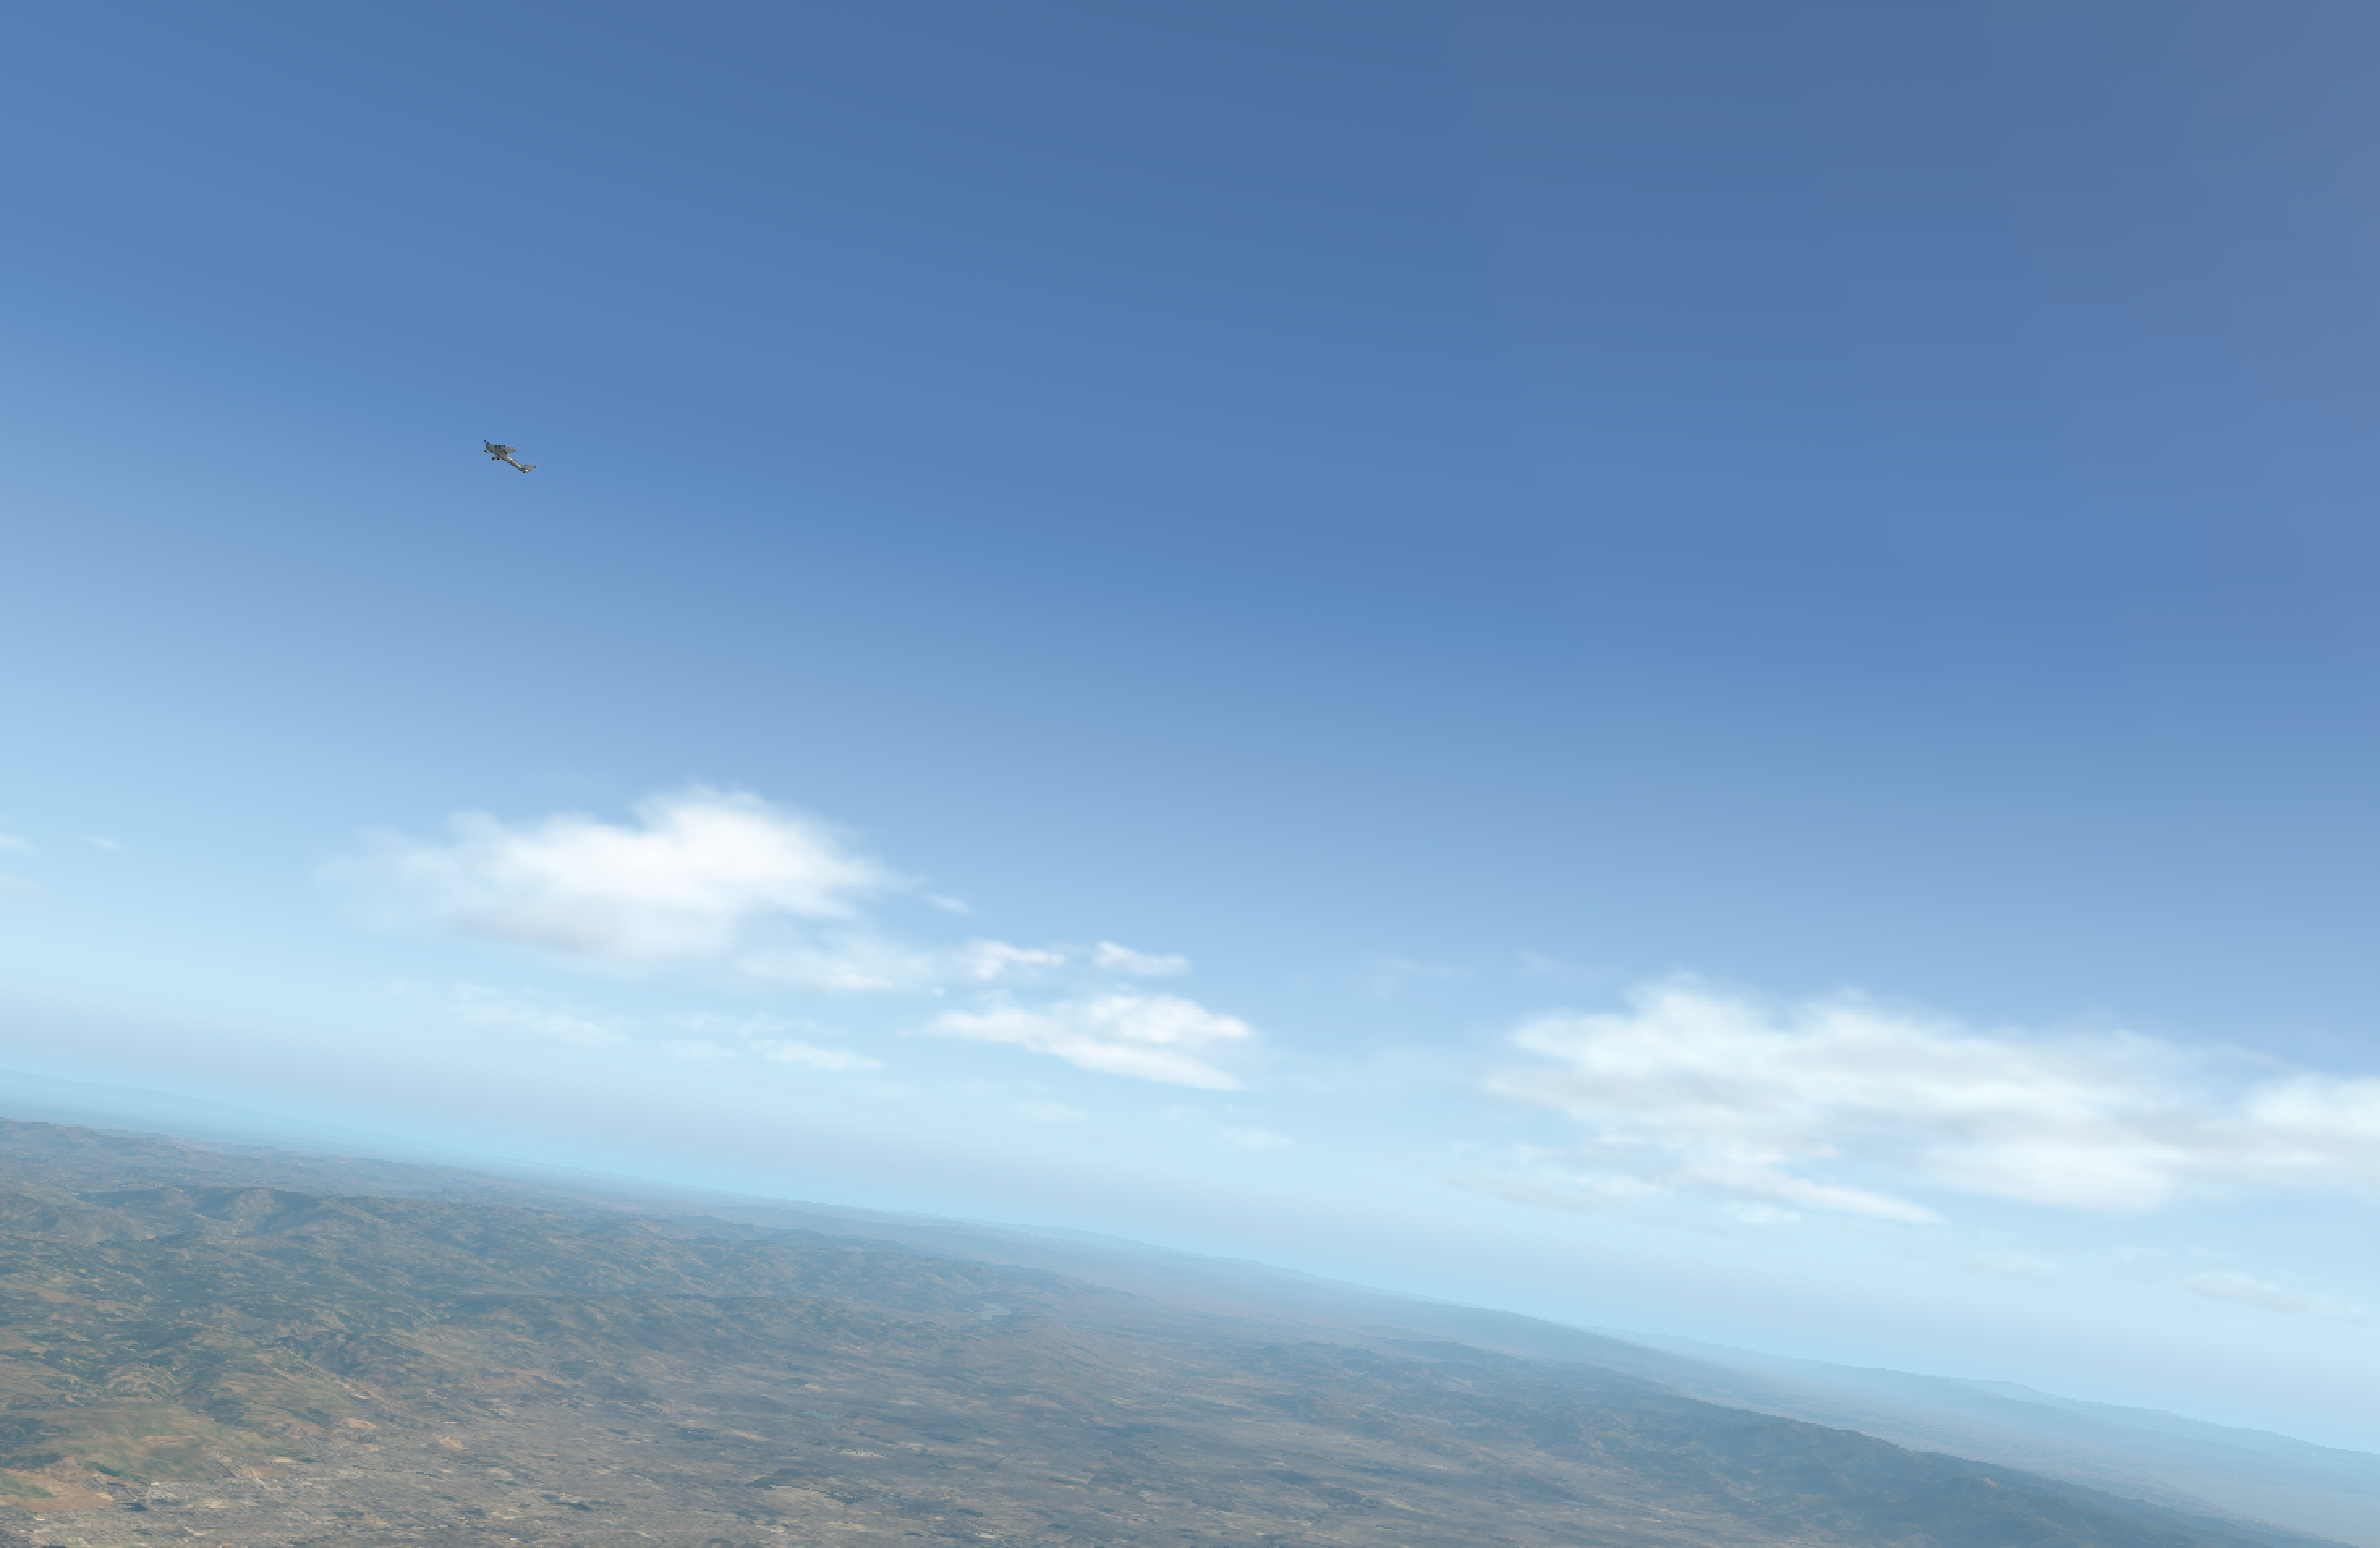aircraft: (474, 443, 524, 460)
